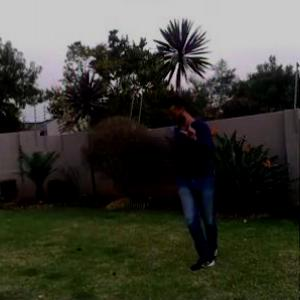land_hand: (179, 113, 204, 143)
